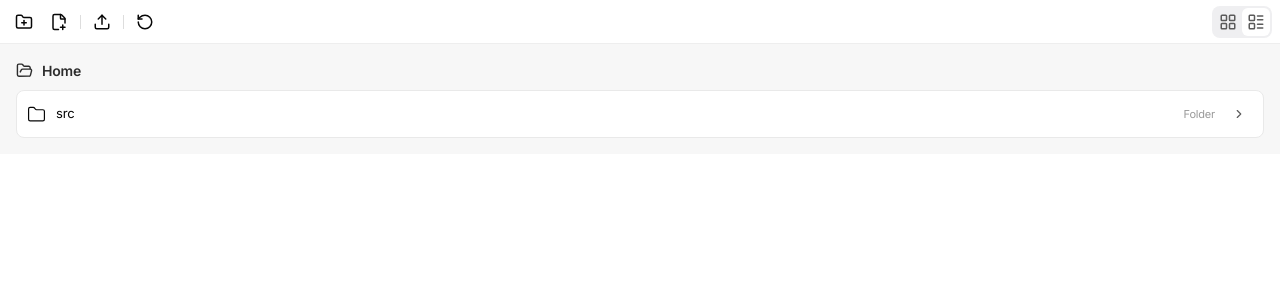
Test: WorkspacePanel › expands nested directories lazily in list view
Click the button with class "tree-toggle" at (1239, 114), box left=1225, top=100, right=1253, bottom=128
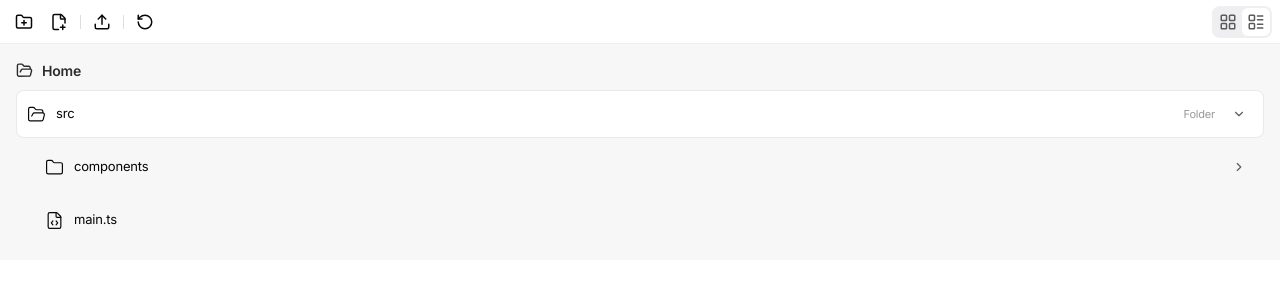
Click the 2nd button with class "tree-toggle" at (1239, 167), box left=1225, top=153, right=1253, bottom=181
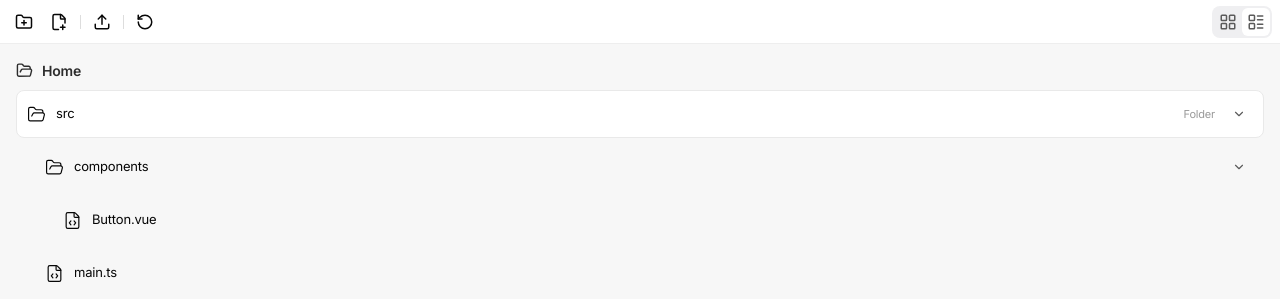
Result: the list item "Button .vue" is shown at left=63, top=210, right=156, bottom=230
